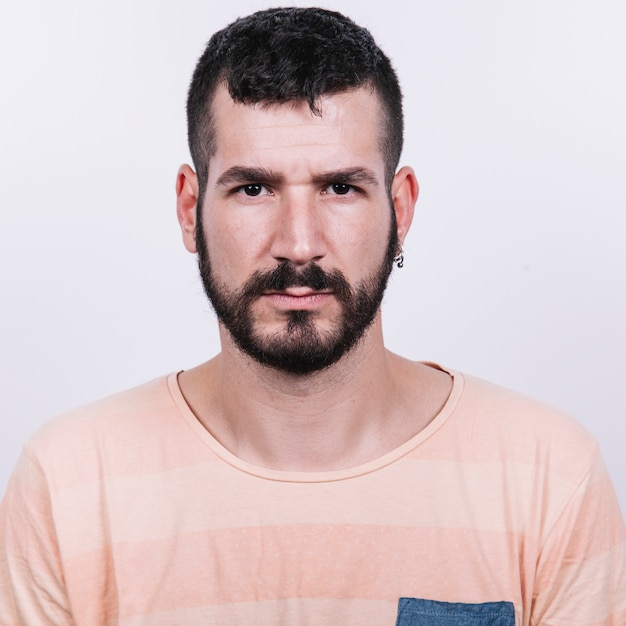young: (173, 14, 430, 359)
